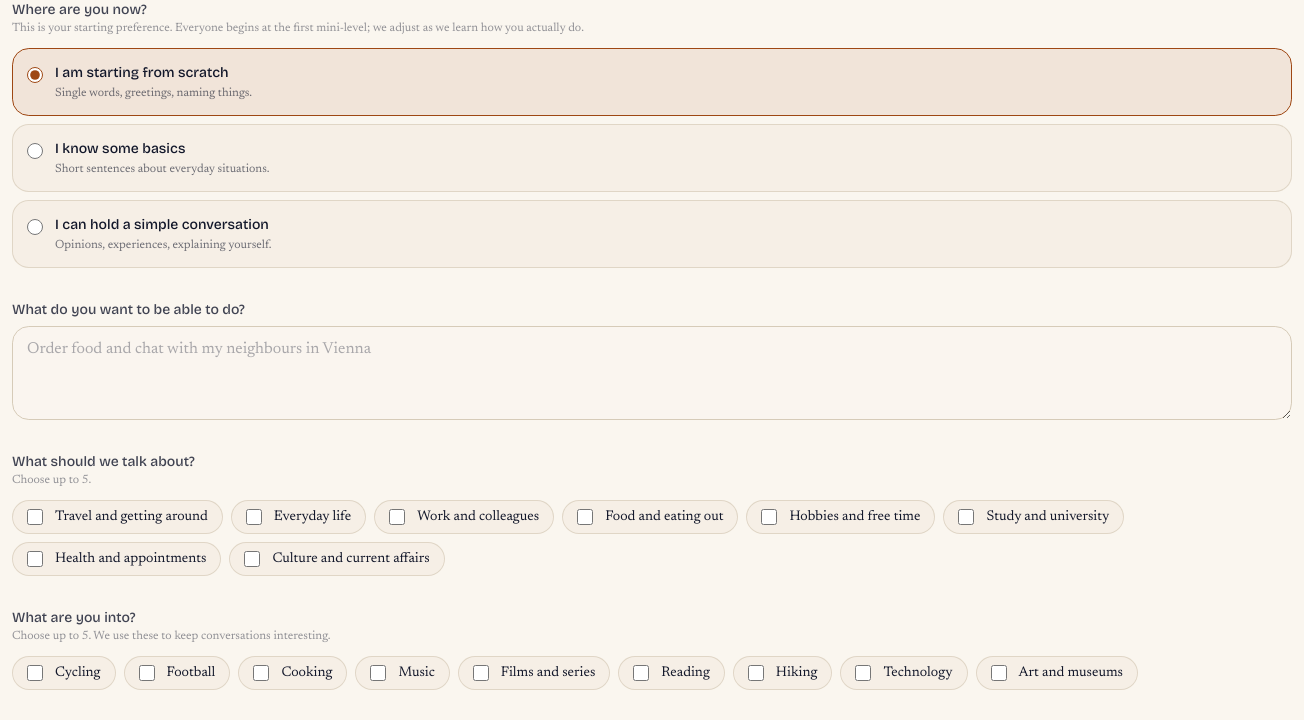
Scenario: when the server refuses › keeps the topics they picked
The width and height of the screenshot is (1304, 720).
Type "Order coffee in Vienna" into the text box labelled "What do you want to be able to do?" at (652, 373), box [12,326,1292,420]
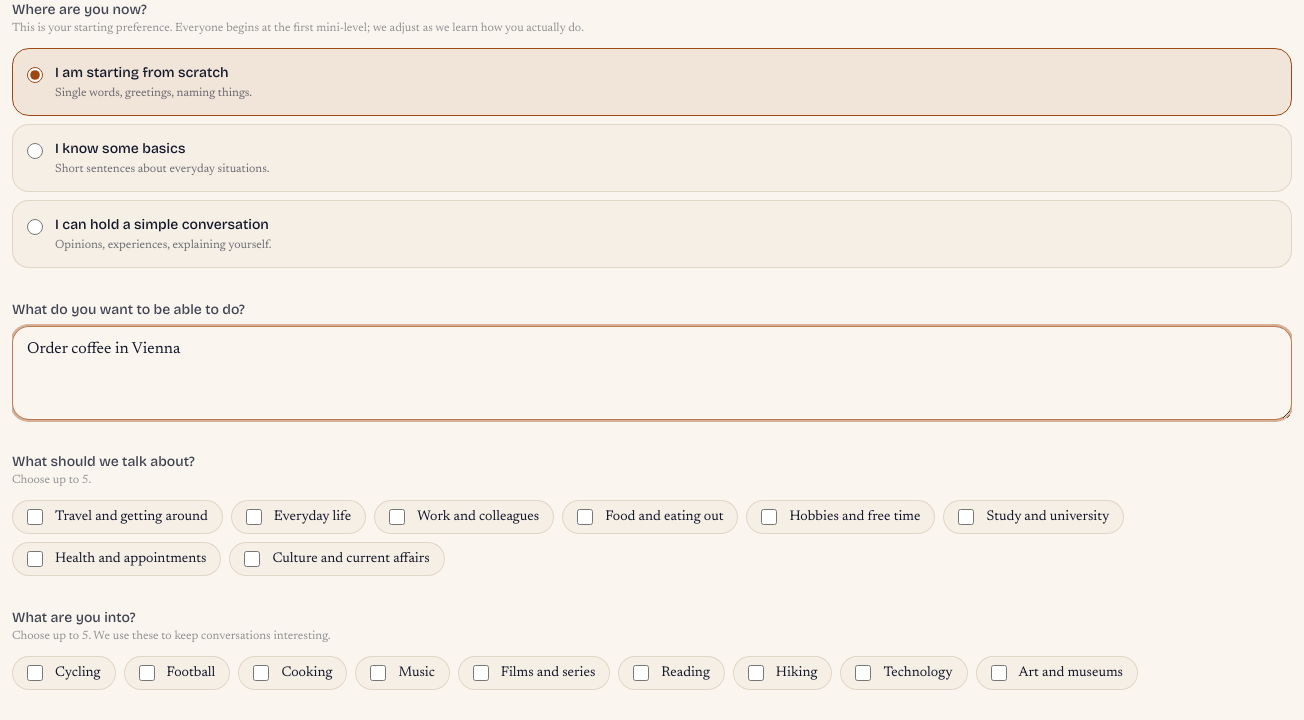
Click the checkbox labelled "Travel and getting around" at (35, 517), box [27,509,43,525]
(page scrolled)
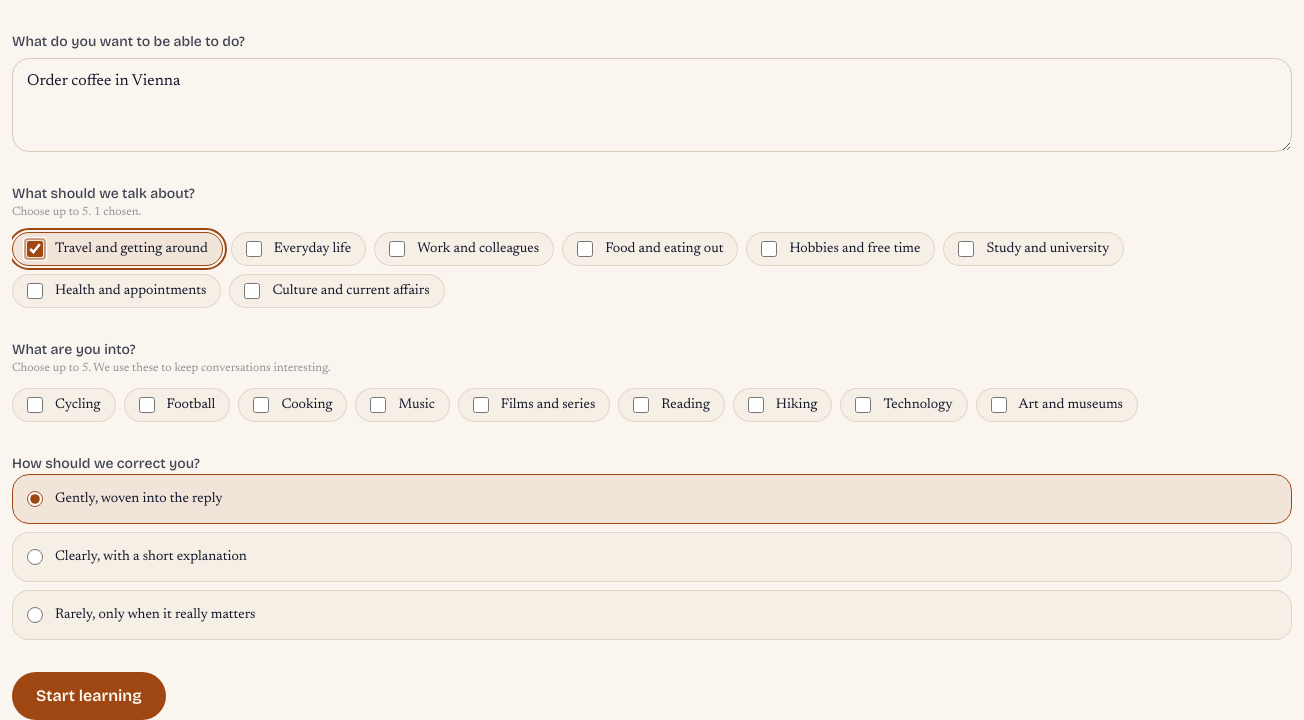
Click the button "Start learning" at (89, 696), box [12,672,166,719]
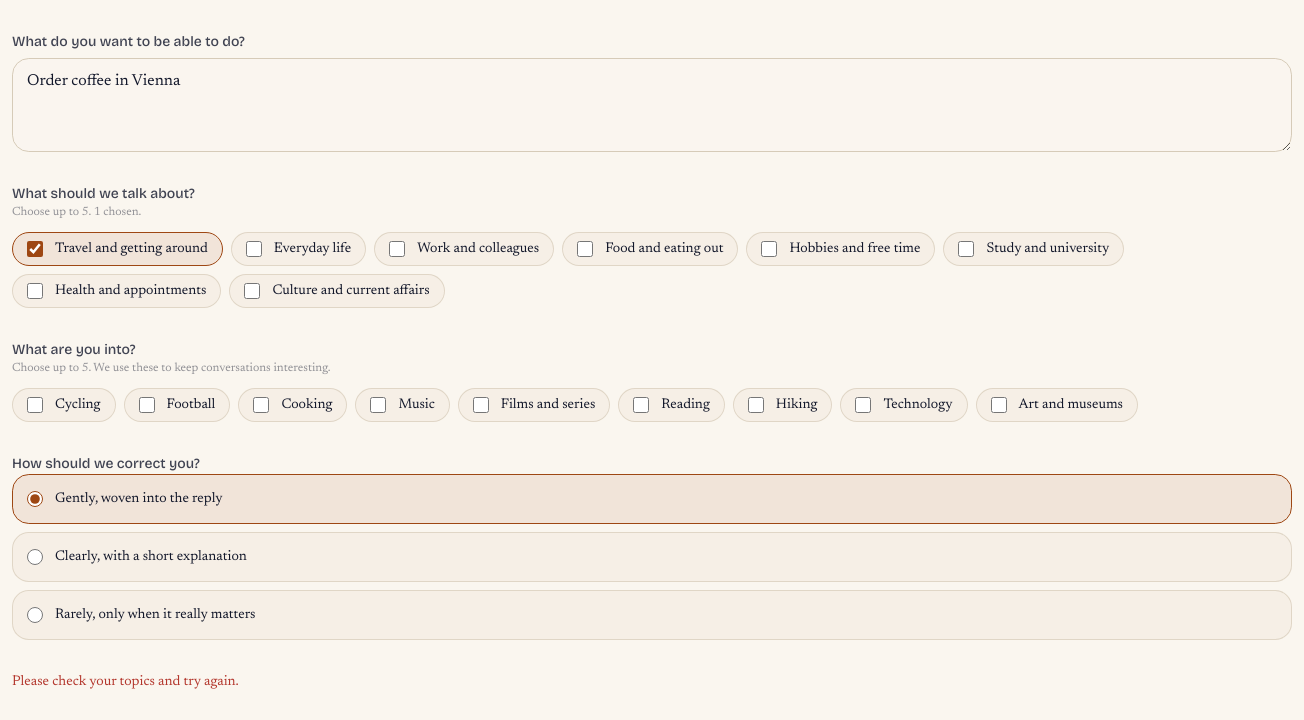
Expected: the checkbox labelled "Travel and getting around" is checked, [27,241,43,257]
Expected: the message shows "check your topics", [12,675,239,689]
